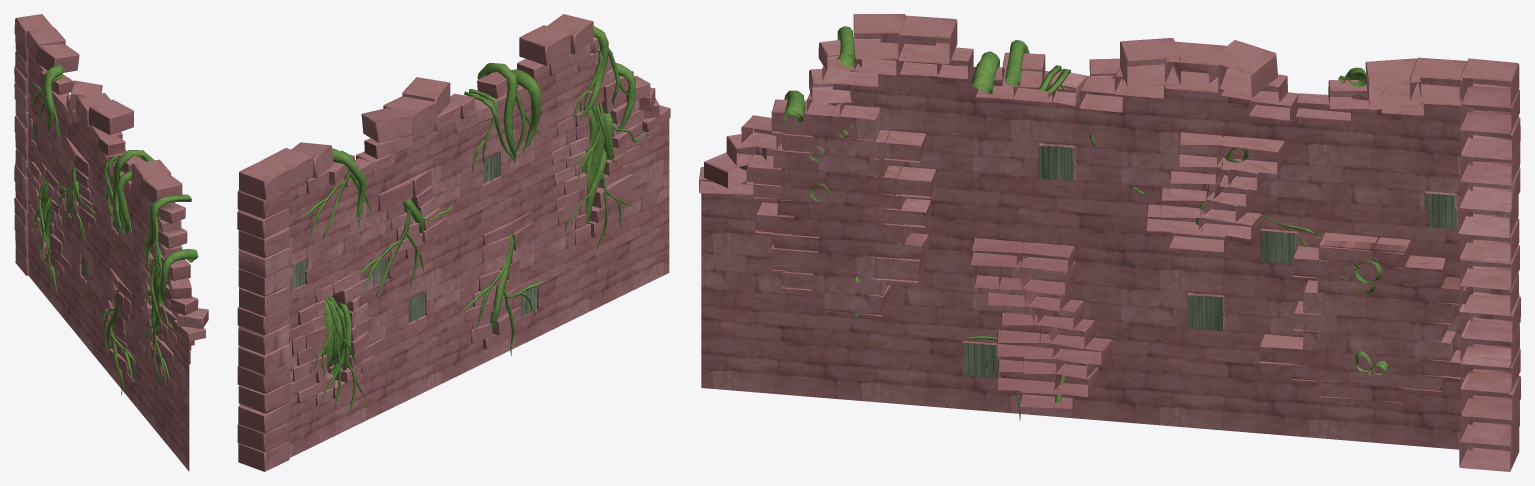
File: SM_ENV_KNFRST_Wall_Ba.FBX
3 views of the same model, side by side, from view 1: azimuth 30°, elevation 25°; view 2: azimuth 150°, elevation 25°; view 3: azimuth 270°, elevation 25° (orthographic). The views are drawn at different scales.
Parts seen in each view (by area): view 1: SM_ENV_KNFRST_Wall_Ba; view 2: SM_ENV_KNFRST_Wall_Ba; view 3: SM_ENV_KNFRST_Wall_Ba.
Part boxes in pixels (left/top/right/bottom): SM_ENV_KNFRST_Wall_Ba: left=14, top=14, right=208, bottom=471; SM_ENV_KNFRST_Wall_Ba: left=237, top=14, right=670, bottom=471; SM_ENV_KNFRST_Wall_Ba: left=699, top=14, right=1520, bottom=471.
Size of the model in its own units: 1033 by 2243 by 4193.
